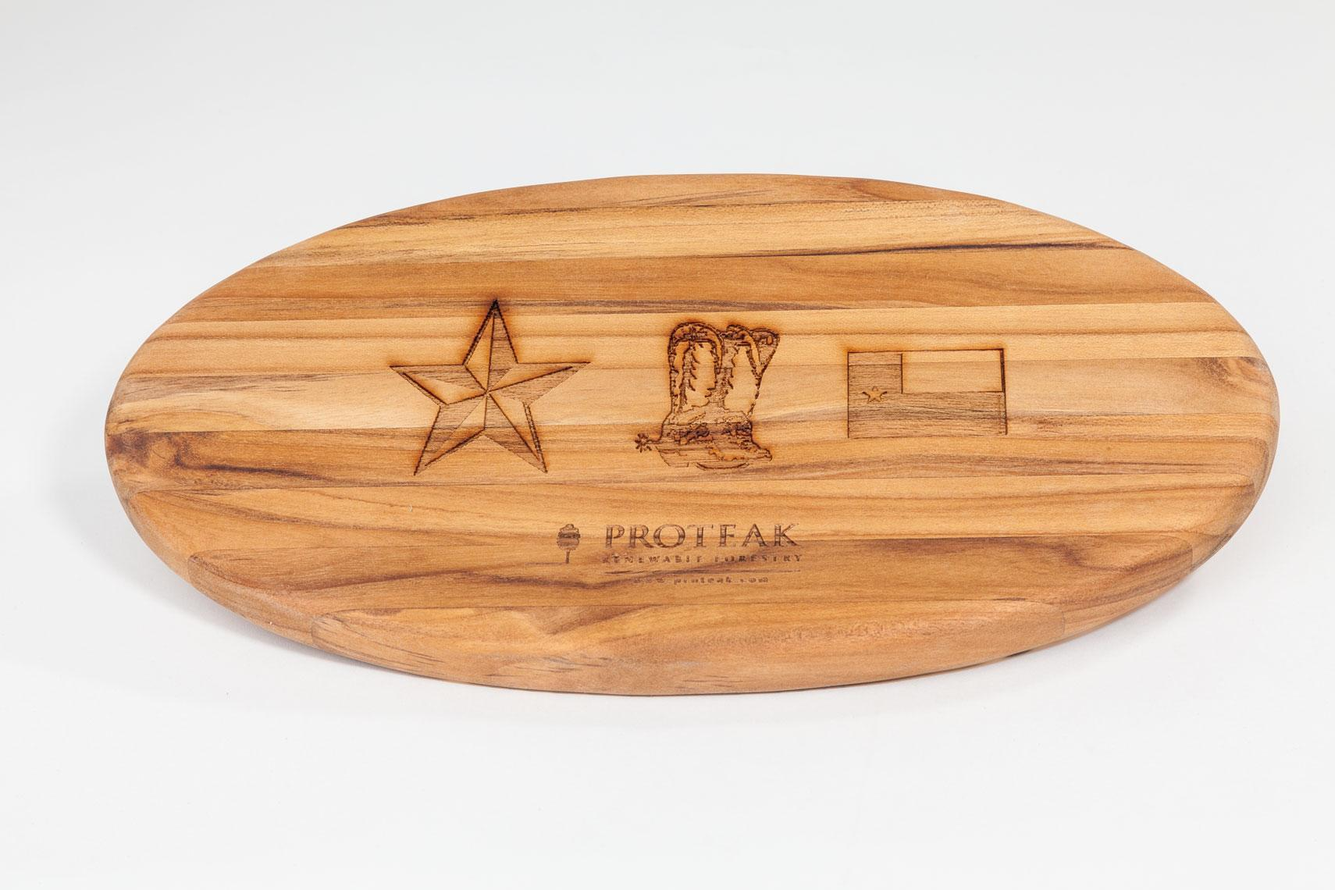gloved_hand: (82, 160, 1288, 710)
